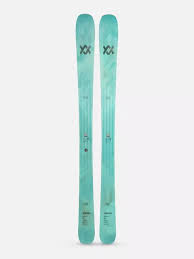skis: (74, 14, 121, 244)
